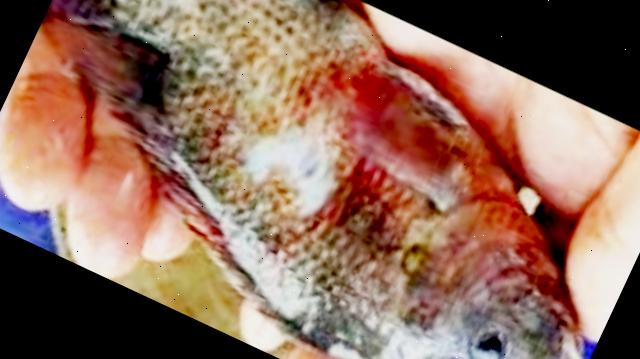Tilapia Lake Virus -TiLV-: (47, 0, 581, 359)
